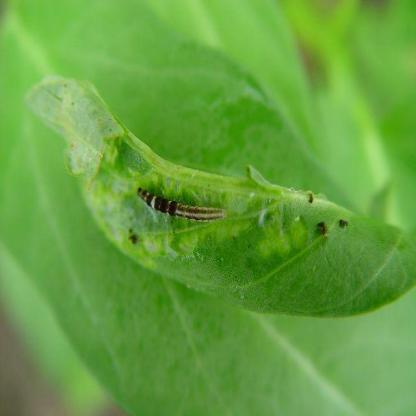armyworm: (131, 180, 227, 224)
